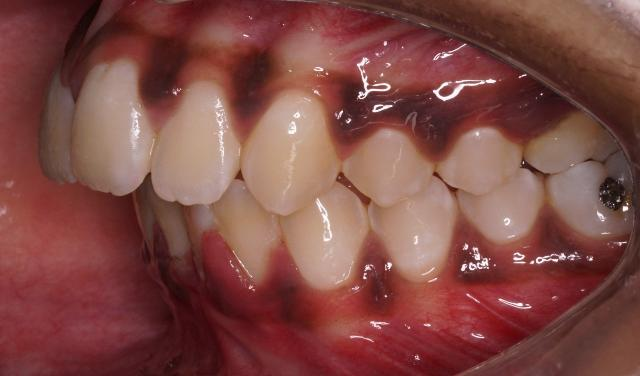canine class II full class: (238, 83, 456, 294)
molar class II full class: (522, 104, 640, 250)
